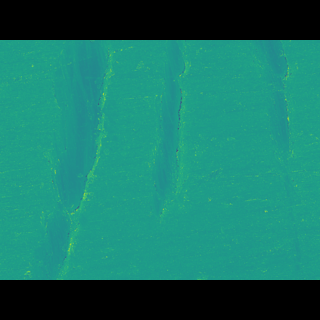Loch: (20, 68, 115, 248), (244, 69, 318, 248), (140, 70, 194, 208)
